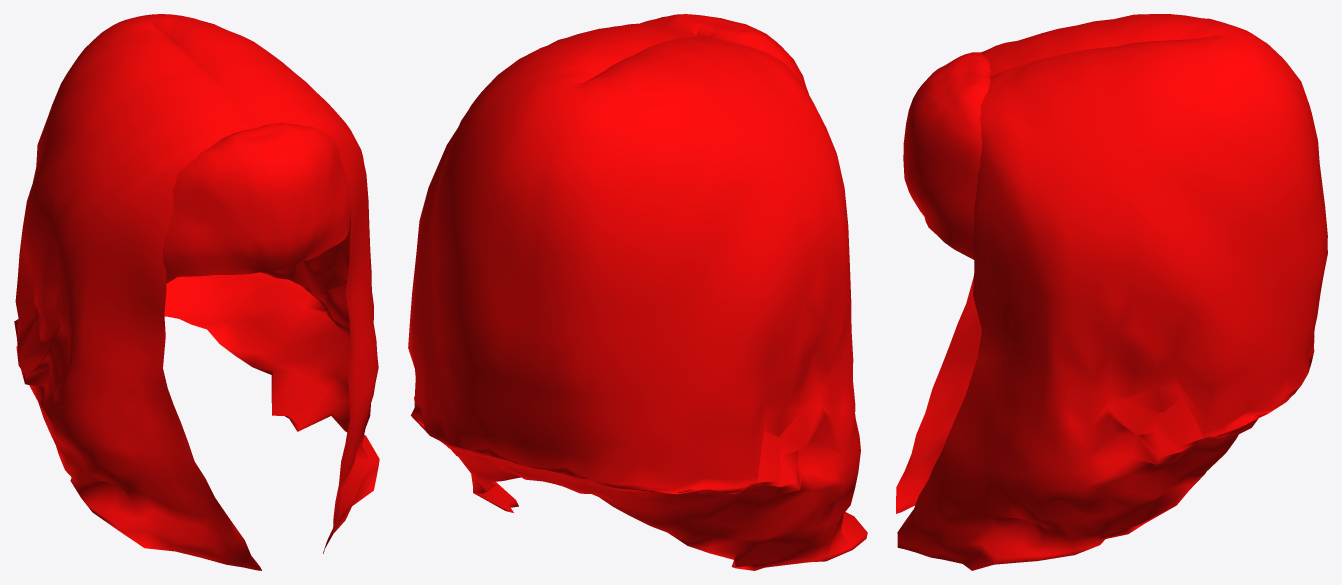
File: toigo_inverted_bob_with_bangs_F.glb
3 renders of one model, left to right at view 1: azimuth 30°, elevation 25°; view 2: azimuth 150°, elevation 25°; view 3: azimuth 270°, elevation 25°, orthographic. The views are drawn at different scales.
Size of the model in its own units: 0.2063 by 0.2785 by 0.219.
Materials: 1 (1 with a texture image).
